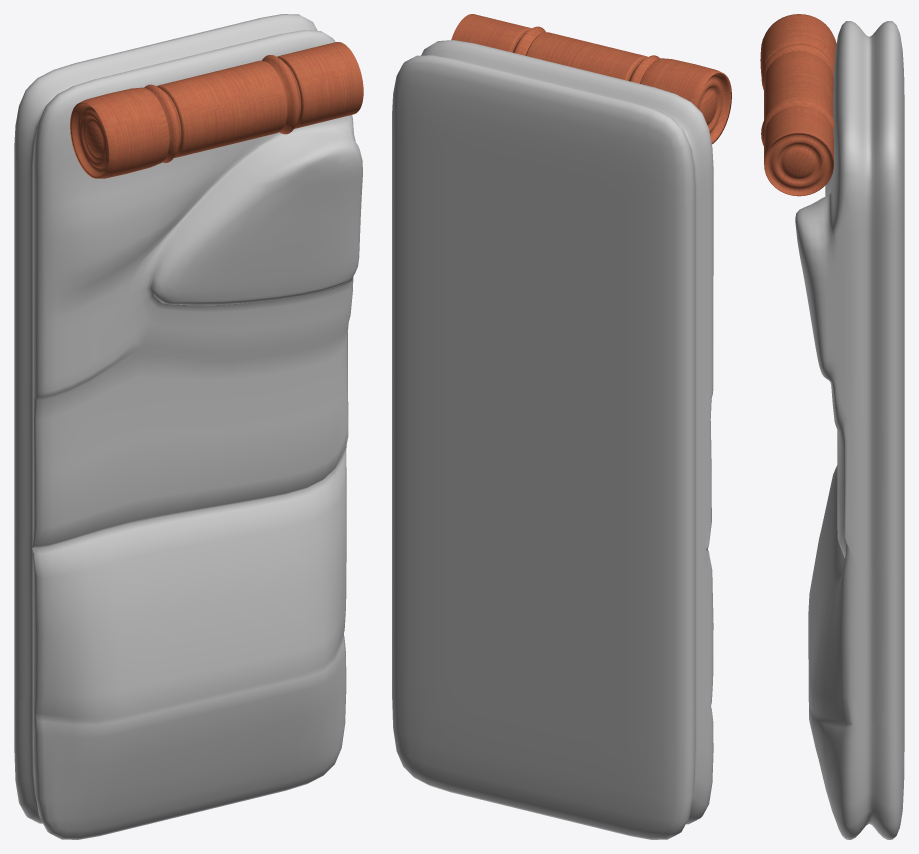
File: sleeping_bag.fbx
3 views of the same model, side by side, from view 1: azimuth 30°, elevation 25°; view 2: azimuth 150°, elevation 25°; view 3: azimuth 270°, elevation 25° (orthographic). The views are drawn at different scales.
Parts seen in each view (by area): view 1: pCube28, pCylinder6; view 2: pCube28, pCylinder6; view 3: pCube28, pCylinder6.
Part boxes in pixels (<box>): pCube28: <box>14,14,362,839</box>; pCylinder6: <box>70,42,363,178</box>; pCube28: <box>392,40,713,839</box>; pCylinder6: <box>451,14,731,144</box>; pCube28: <box>795,21,904,839</box>; pCylinder6: <box>760,14,836,196</box>.
Bounding box in the file's own units: 7.99 × 18.77 × 3.43.
